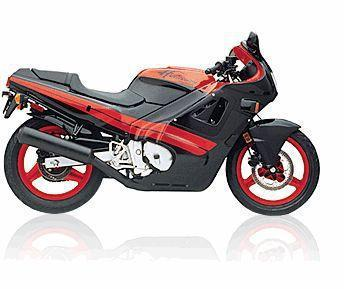motorcycle: (1, 25, 334, 227)
